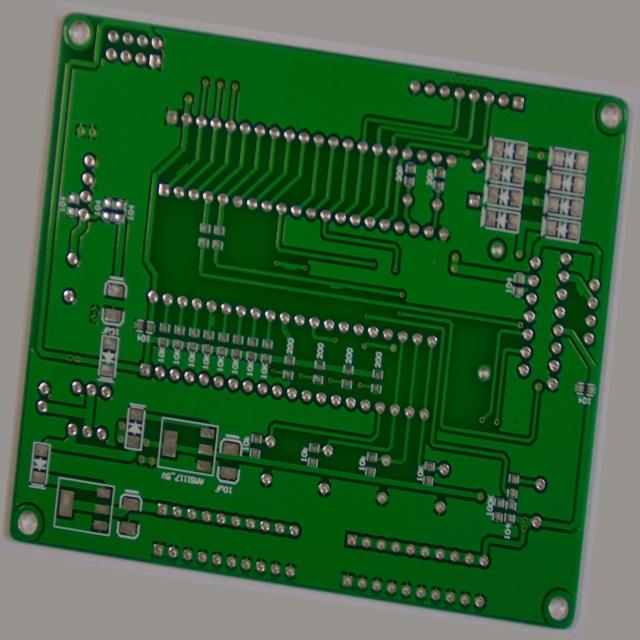spur: (144, 160, 168, 183), (585, 229, 607, 252), (272, 254, 291, 273), (323, 270, 343, 286), (196, 329, 209, 350)
